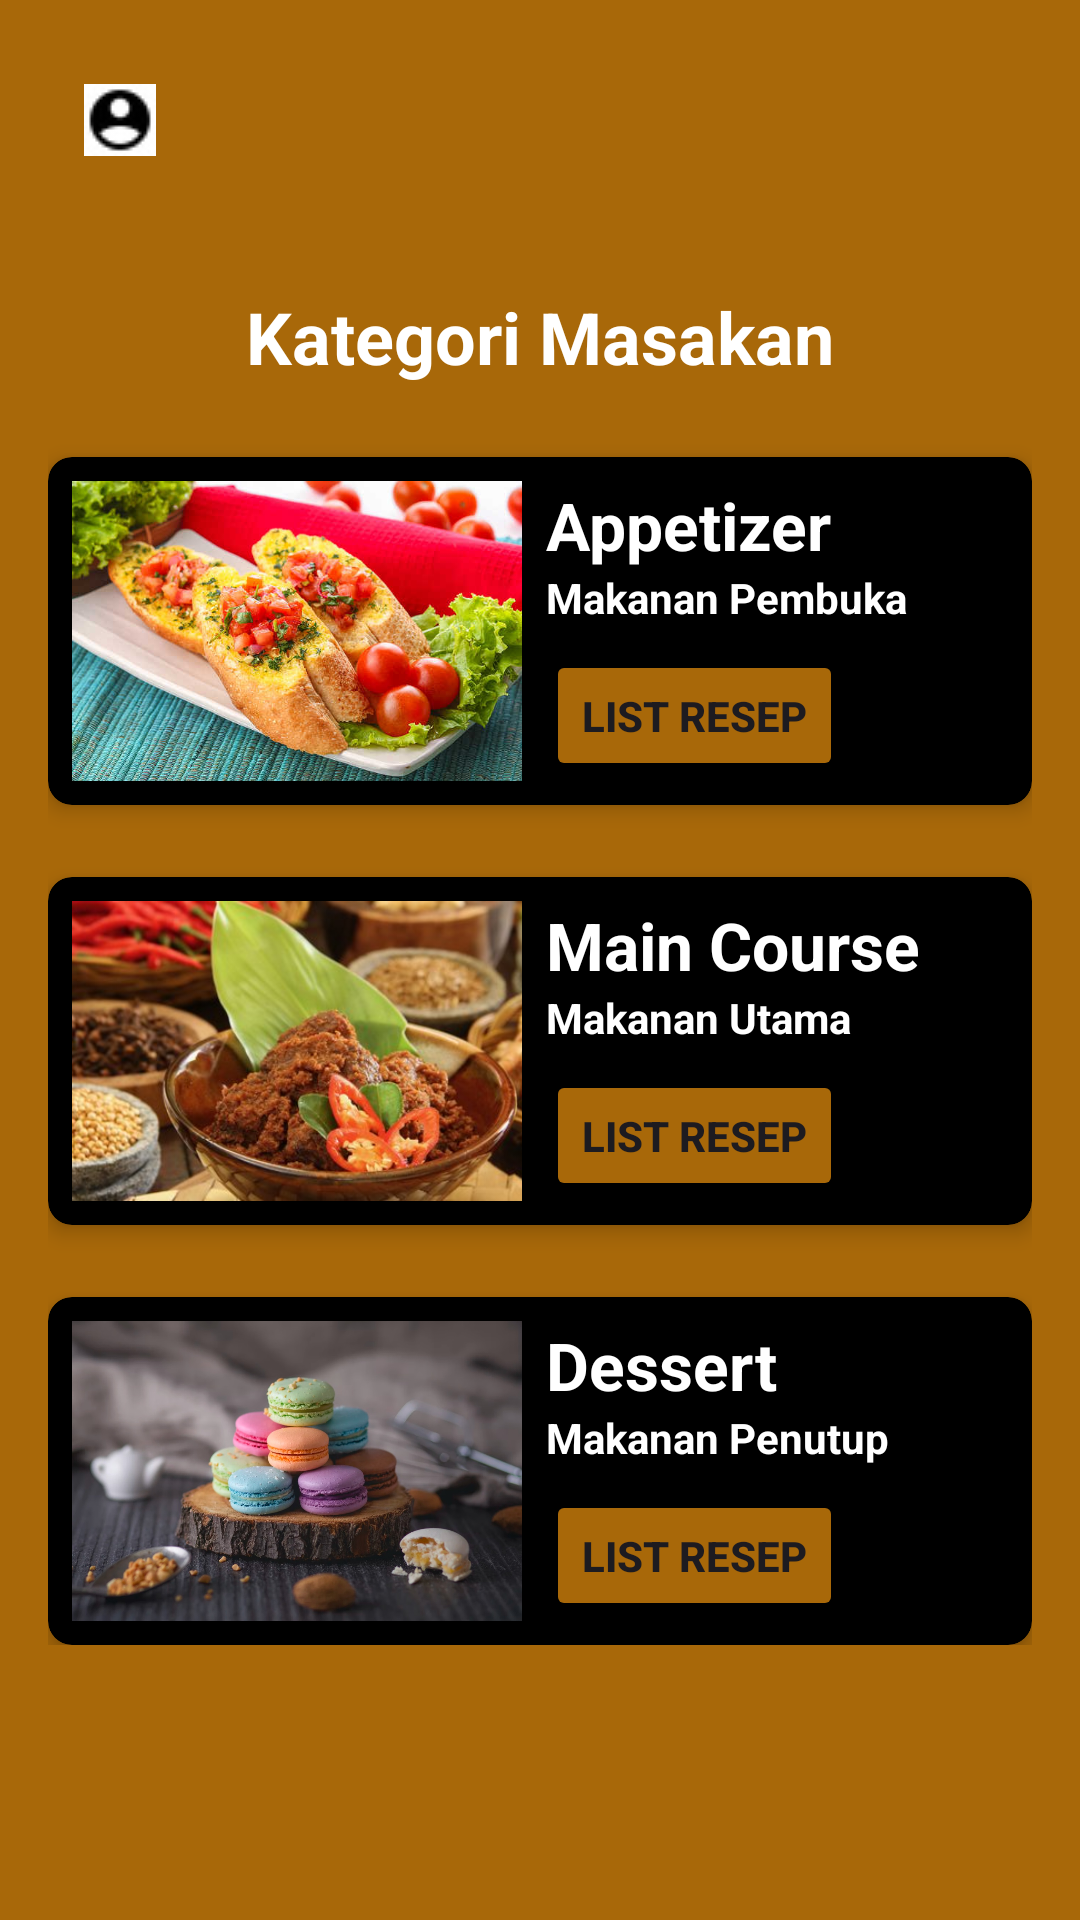

Named icons in this screenshot (1080 x 1920) and their bounding boxes, (x1, y1, x2, y2):
profile: (84, 84, 156, 156)
